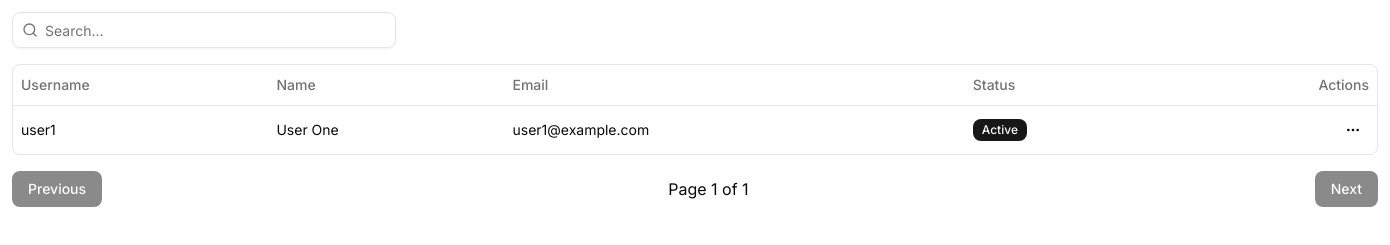
Scenario: UserTable › toggles user status and refreshes the table
Check: the text "Active" is shown, box left=973, top=118, right=1027, bottom=140
Click the 1st button at (1353, 130), box left=1337, top=114, right=1369, bottom=146
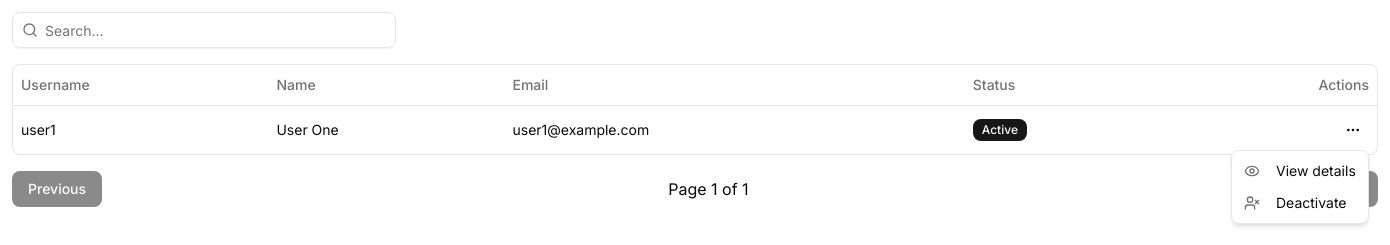
Note: Click on the "Deactivate" action
Click the button "Deactivate" at (1295, 202), box left=1244, top=194, right=1346, bottom=211
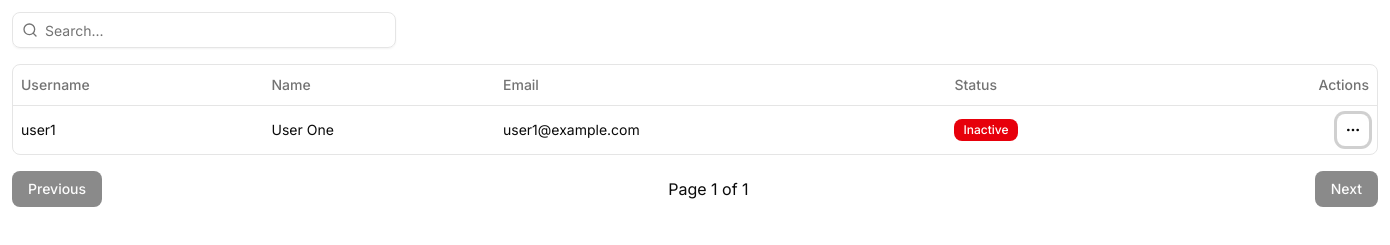
Check: the text "Inactive" is shown, box left=954, top=118, right=1018, bottom=140
